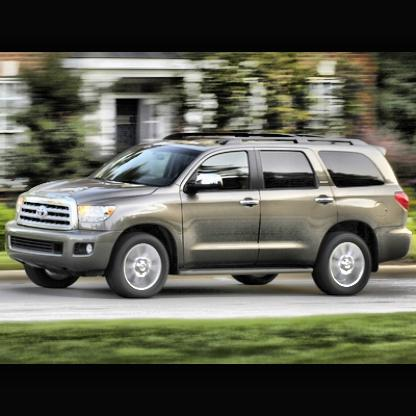Toyota Sequoia SUV 2012: (9, 135, 413, 302)
